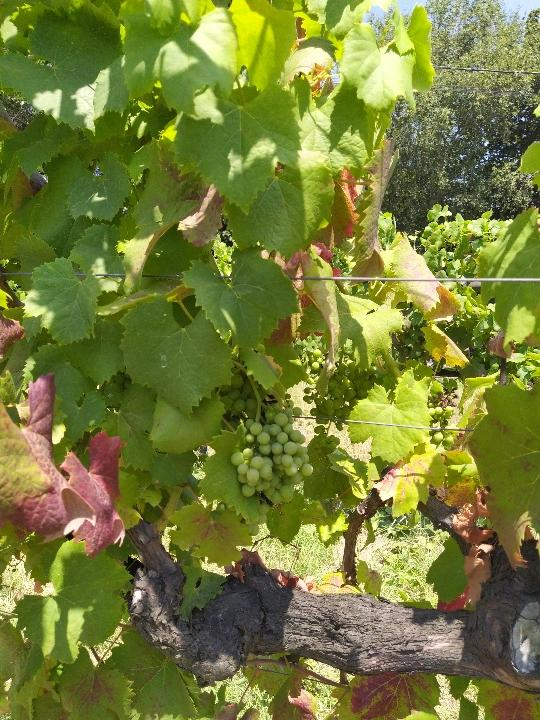grape: (216, 361, 315, 509), (302, 359, 384, 461)
